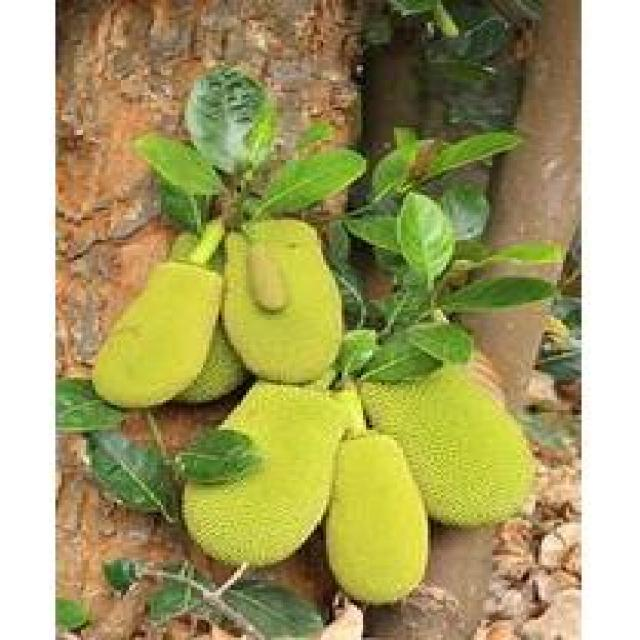Fruit: (166, 365, 419, 623), (351, 335, 551, 540), (197, 200, 375, 412), (305, 395, 449, 633), (77, 247, 249, 425)
